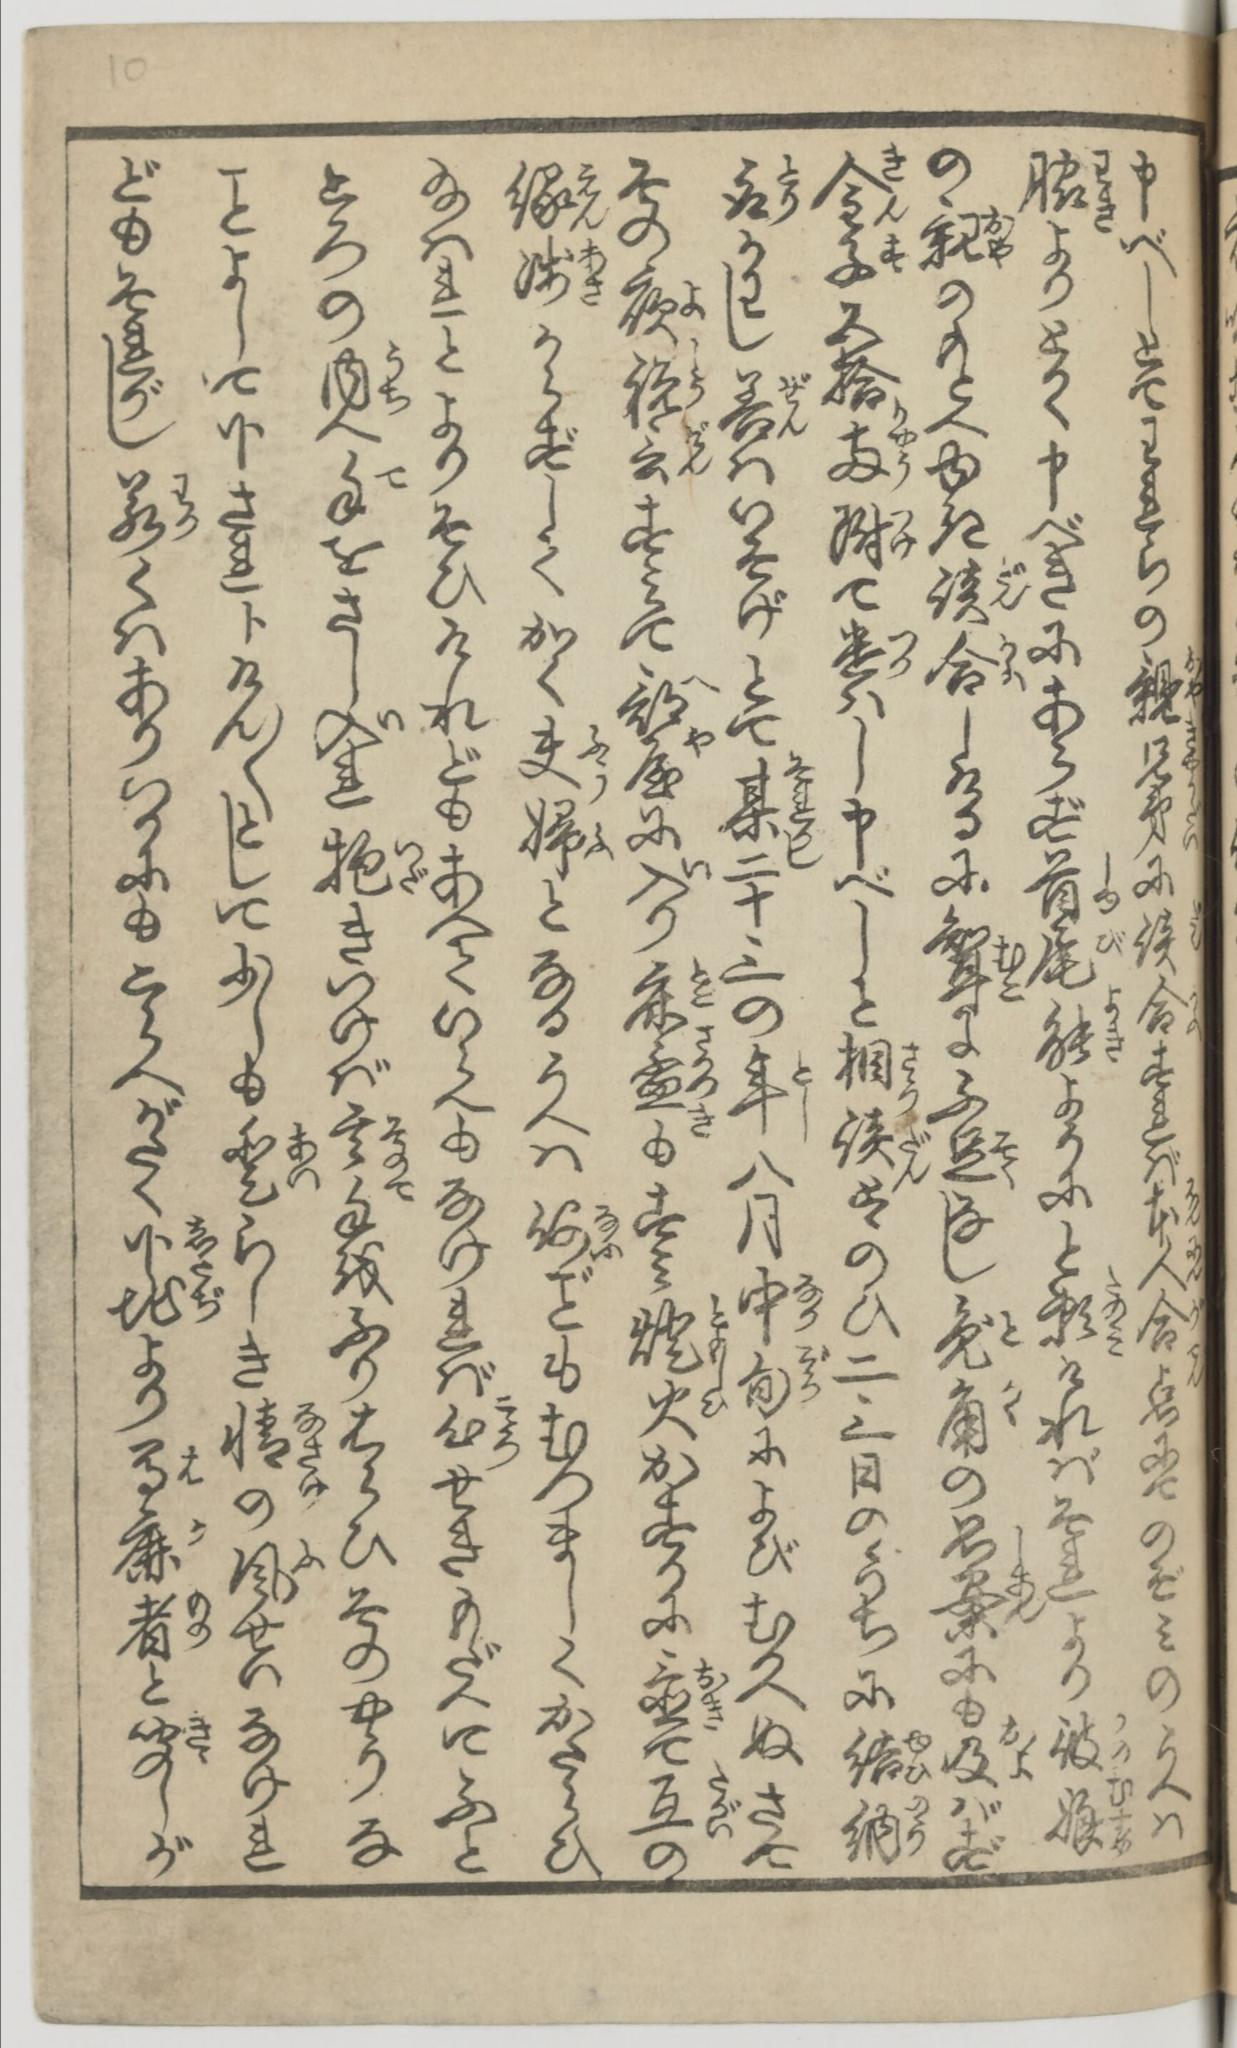MainZone-Character: (623, 1021, 730, 1135), (727, 755, 826, 873), (224, 1400, 333, 1498), (915, 910, 1026, 1002), (1019, 138, 1119, 234), (104, 456, 196, 560), (807, 142, 912, 233), (735, 1337, 835, 1428), (120, 1714, 221, 1804), (829, 1103, 931, 1191), (333, 1099, 420, 1202), (629, 1763, 741, 1840), (728, 1044, 816, 1144), (522, 1189, 627, 1271), (635, 1646, 733, 1733), (307, 824, 427, 895), (499, 155, 611, 231), (110, 1505, 213, 1587), (610, 335, 714, 415), (1037, 983, 1130, 1072), (716, 363, 816, 445), (224, 1119, 320, 1202), (1047, 1779, 1139, 1865), (921, 556, 1037, 625), (420, 1393, 525, 1467), (928, 628, 1029, 705), (832, 398, 917, 490), (513, 800, 613, 878), (629, 1298, 734, 1371), (933, 1369, 1025, 1453), (832, 1024, 924, 1106), (230, 1535, 330, 1609), (314, 338, 411, 415), (945, 1716, 1041, 1793), (506, 236, 607, 309), (930, 1290, 1022, 1369), (613, 414, 708, 490), (104, 1277, 232, 1333), (1135, 1340, 1217, 1426), (820, 500, 923, 569), (614, 667, 728, 729), (519, 715, 607, 794), (627, 1375, 733, 1441), (733, 1267, 829, 1339), (116, 1593, 213, 1663), (835, 1795, 933, 1865), (915, 202, 1015, 271), (1120, 648, 1208, 726), (621, 733, 719, 800), (626, 957, 722, 1024), (121, 1213, 224, 1276), (721, 145, 800, 224), (614, 269, 711, 334), (1034, 853, 1130, 917), (836, 1725, 933, 1788), (817, 233, 909, 294), (1135, 894, 1203, 976), (1135, 780, 1206, 856), (829, 617, 920, 677), (1051, 1714, 1139, 1774), (1040, 920, 1124, 982), (1130, 1283, 1215, 1343), (123, 1435, 200, 1497), (1126, 723, 1205, 778), (1135, 1176, 1211, 1233), (1132, 979, 1203, 1037), (621, 857, 715, 897), (1138, 1238, 1215, 1284)
MainZone-Ruby: (779, 756, 820, 875), (687, 1027, 719, 1138), (291, 1404, 328, 1498), (994, 1717, 1044, 1786), (376, 1115, 418, 1194), (871, 145, 907, 230), (784, 1052, 817, 1138), (279, 1121, 319, 1192), (695, 1652, 728, 1733), (775, 366, 812, 440), (702, 1772, 741, 1840), (990, 926, 1025, 1001), (373, 342, 411, 411), (573, 717, 607, 794), (1102, 1777, 1136, 1852), (988, 559, 1032, 616), (178, 1217, 221, 1276), (572, 159, 607, 230), (569, 237, 602, 310), (677, 418, 715, 481), (768, 149, 798, 225), (1088, 148, 1116, 231), (1098, 983, 1126, 1066), (890, 1122, 926, 1188), (788, 1271, 826, 1330), (795, 1341, 831, 1404), (886, 404, 912, 487), (1088, 856, 1124, 916), (680, 958, 716, 1018), (895, 1795, 931, 1855), (393, 834, 431, 891), (981, 203, 1013, 271), (165, 468, 193, 543), (700, 1299, 731, 1366), (181, 1590, 213, 1653), (177, 1716, 216, 1767), (588, 1207, 621, 1267), (490, 1397, 519, 1464), (893, 1039, 923, 1104), (681, 338, 709, 407), (187, 1277, 224, 1328), (996, 635, 1025, 692), (885, 629, 920, 674), (904, 1728, 931, 1785), (1177, 648, 1203, 708), (697, 1378, 730, 1425), (1108, 1713, 1136, 1767), (290, 1542, 332, 1577), (997, 1377, 1025, 1426), (888, 511, 912, 565), (680, 276, 706, 326), (579, 815, 605, 865), (1180, 1347, 1208, 1393), (999, 1298, 1022, 1350), (1180, 1178, 1202, 1233), (1183, 783, 1200, 851), (877, 231, 904, 276), (175, 1441, 202, 1485), (1180, 898, 1202, 948), (683, 729, 715, 761), (1180, 989, 1202, 1036), (1183, 1290, 1206, 1334), (1179, 717, 1199, 767), (1183, 1236, 1205, 1280), (1091, 926, 1123, 954), (686, 669, 718, 696), (183, 1513, 208, 1548), (681, 859, 716, 881)
